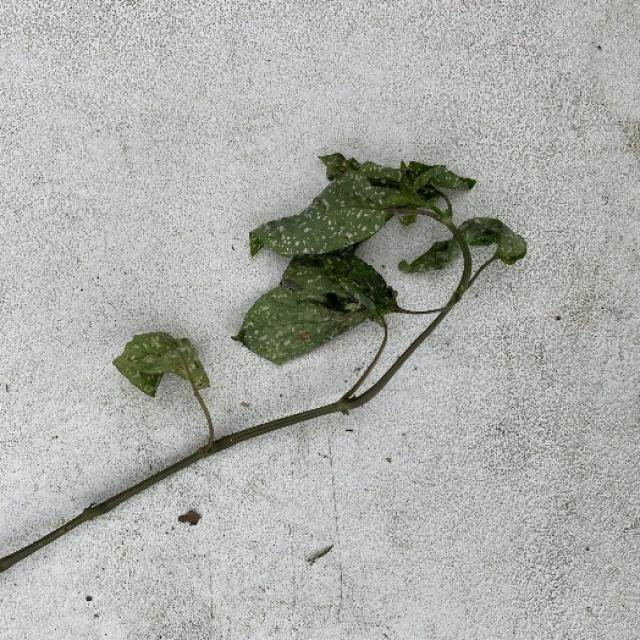wet: (67, 160, 533, 474)
